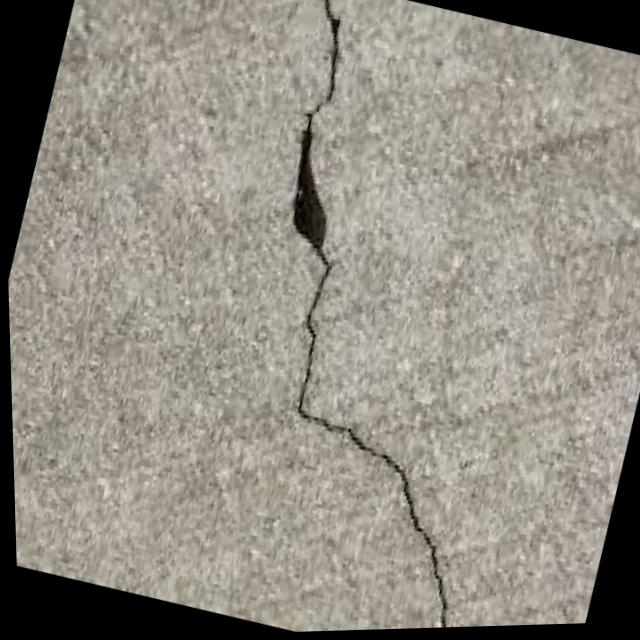Crack: (112, 0, 622, 637)
